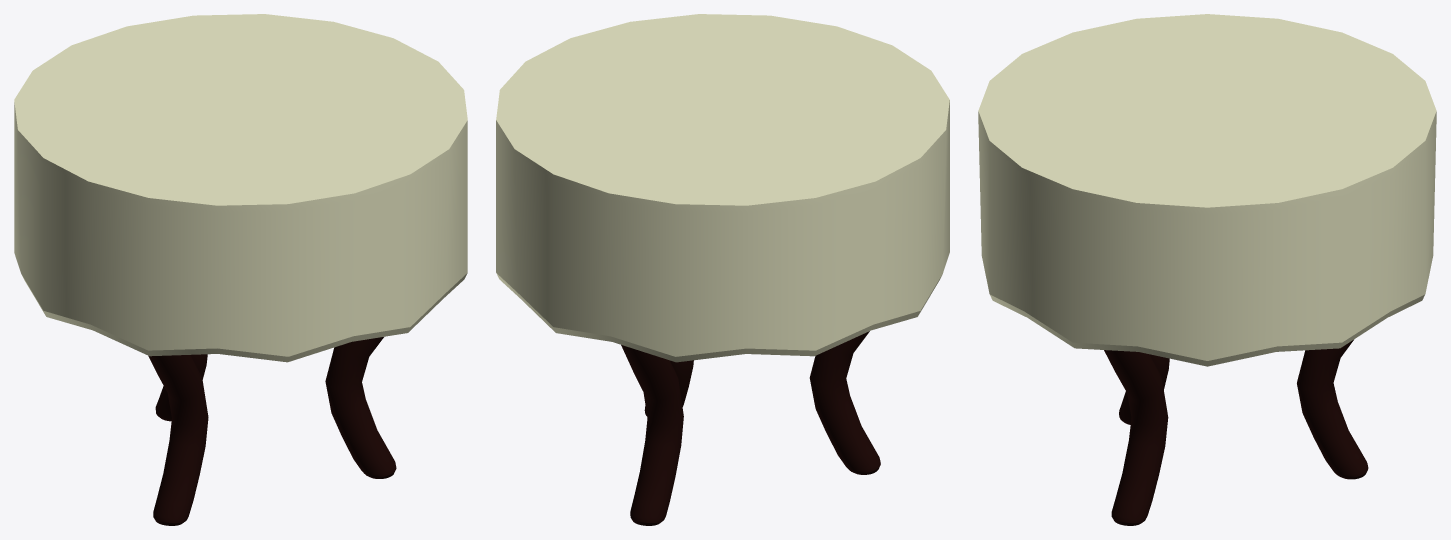
File: SmallRoundTableFancy.fbx
The picture shows the model from 3 angles, left to right: view 1: azimuth 30°, elevation 25°; view 2: azimuth 150°, elevation 25°; view 3: azimuth 270°, elevation 25°; orthographic projection.
Visible parts, largest first — view 1: pasted__polySurface32; view 2: pasted__polySurface32; view 3: pasted__polySurface32.
Boxes of the visible parts, x1,y1,x2,y2 form: pasted__polySurface32: (14, 14, 467, 525); pasted__polySurface32: (496, 14, 949, 525); pasted__polySurface32: (978, 14, 1436, 525).
Size of the model in its own units: 13.43 by 11.7 by 13.43.
